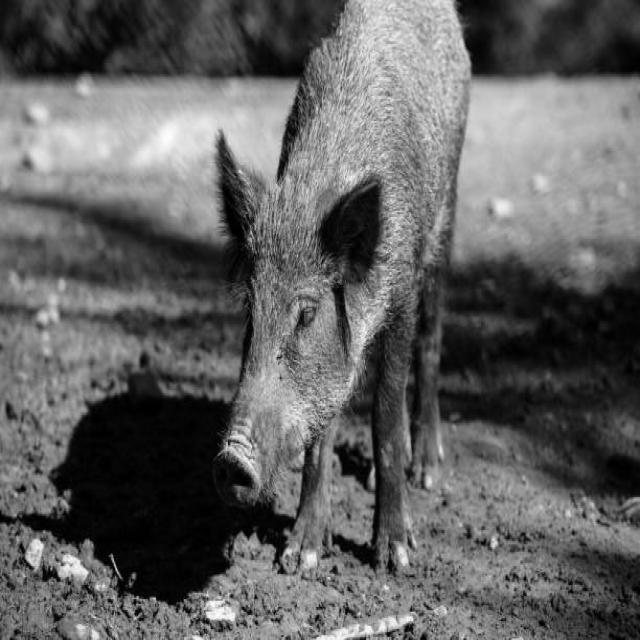boar: (213, 3, 472, 571)
